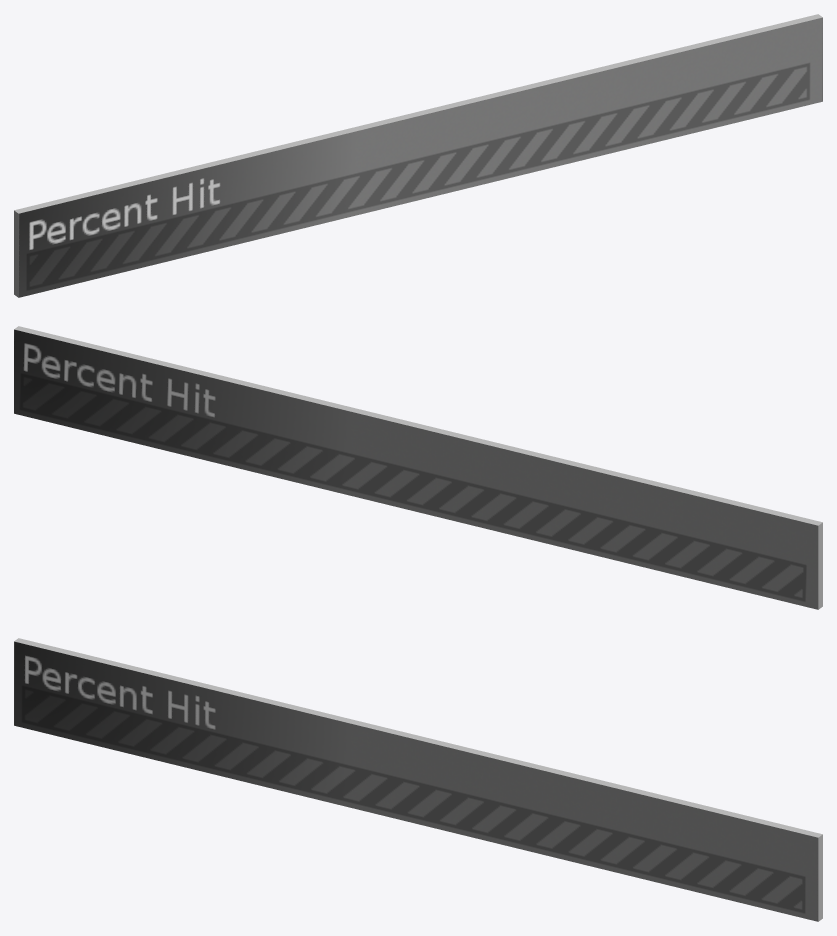
Rendered from topPannel.obj.
3 renders of one model, top to bottom at view 1: azimuth 30°, elevation 25°; view 2: azimuth 150°, elevation 25°; view 3: azimuth 330°, elevation 25°, orthographic.
Visible parts, largest first — view 1: Cube; view 2: Cube; view 3: Cube.
Part boxes in pixels (x1,y1,x2,y2): Cube: (14,14,822,297); Cube: (14,326,822,609); Cube: (14,638,822,921).
Size of the model in its own units: 20 by 2 by 0.2.
